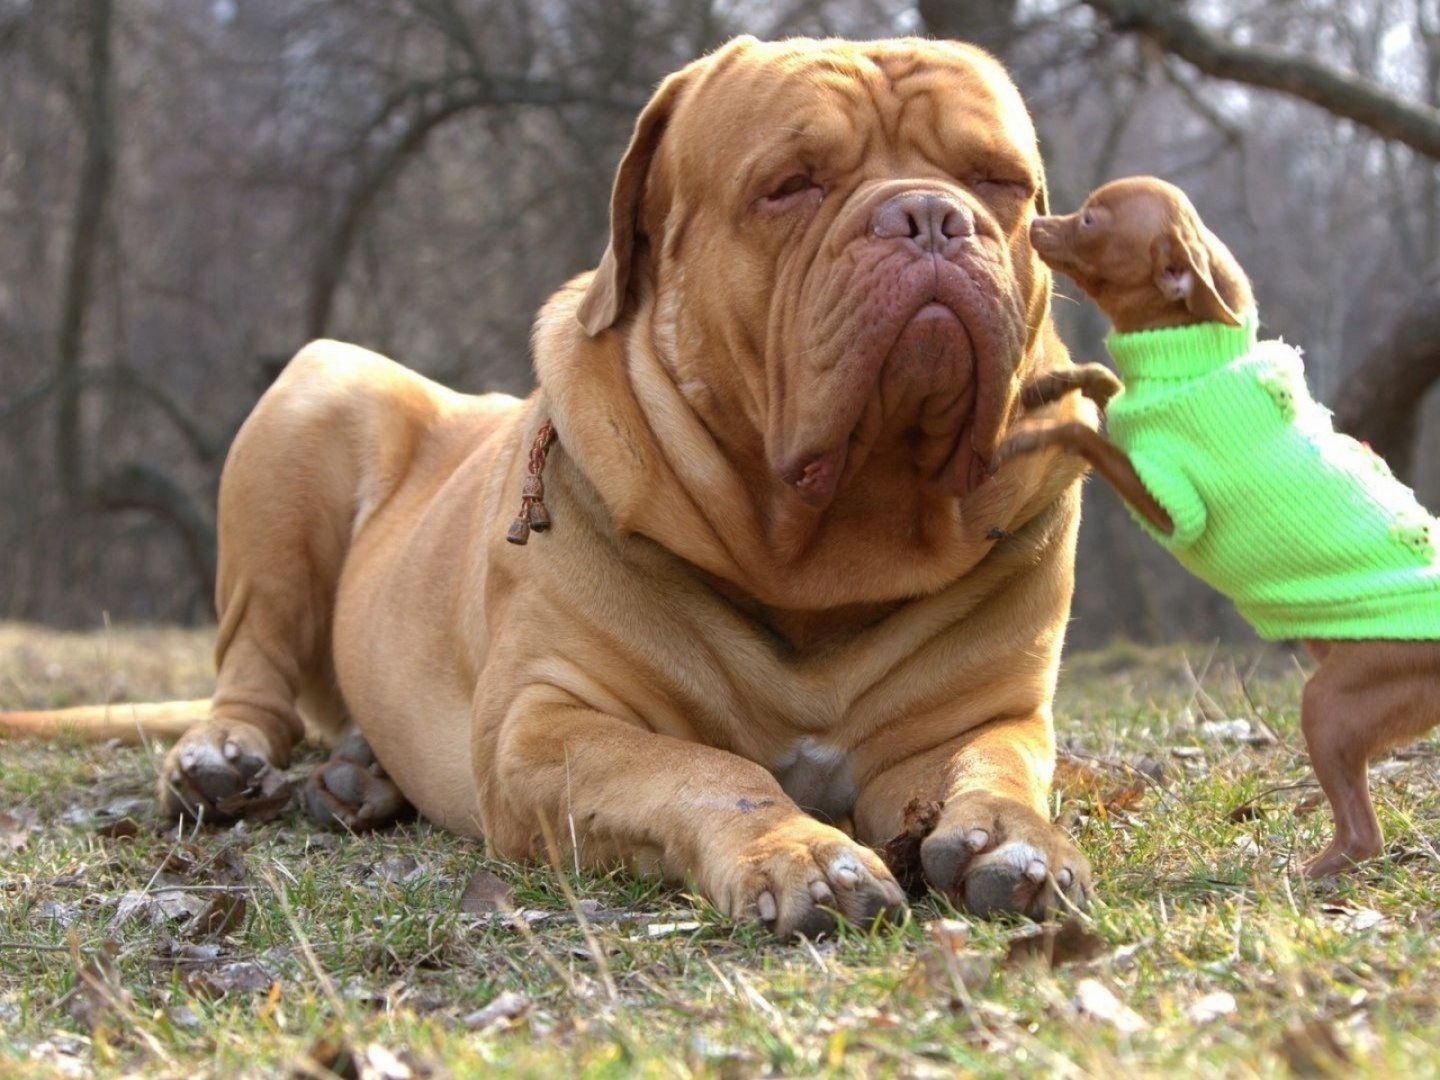dogue_de_bordeaux: (156, 32, 1103, 940)
other_dog_breed: (1001, 176, 1440, 884)
